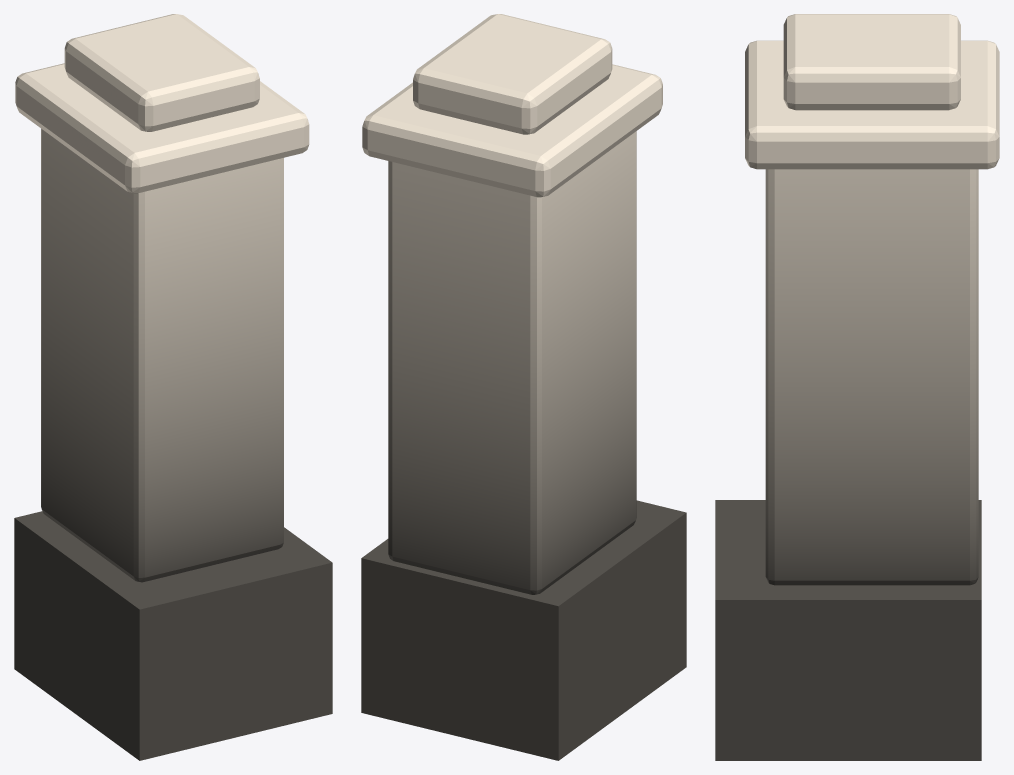
File: SM_VK_RetainingWall_End.fbx
3 views of the same model, side by side, from view 1: azimuth 30°, elevation 25°; view 2: azimuth 150°, elevation 25°; view 3: azimuth 270°, elevation 25° (orthographic). The views are drawn at different scales.
Visible parts, largest first — view 1: SM_VK_RetainingWall_End.001; view 2: SM_VK_RetainingWall_End.001; view 3: SM_VK_RetainingWall_End.001.
Part boxes in pixels (<box>): SM_VK_RetainingWall_End.001: <box>14,14,332,760</box>; SM_VK_RetainingWall_End.001: <box>361,14,686,760</box>; SM_VK_RetainingWall_End.001: <box>715,14,999,760</box>.
Size of the model in its own units: 0.8 by 2.5 by 0.96.
